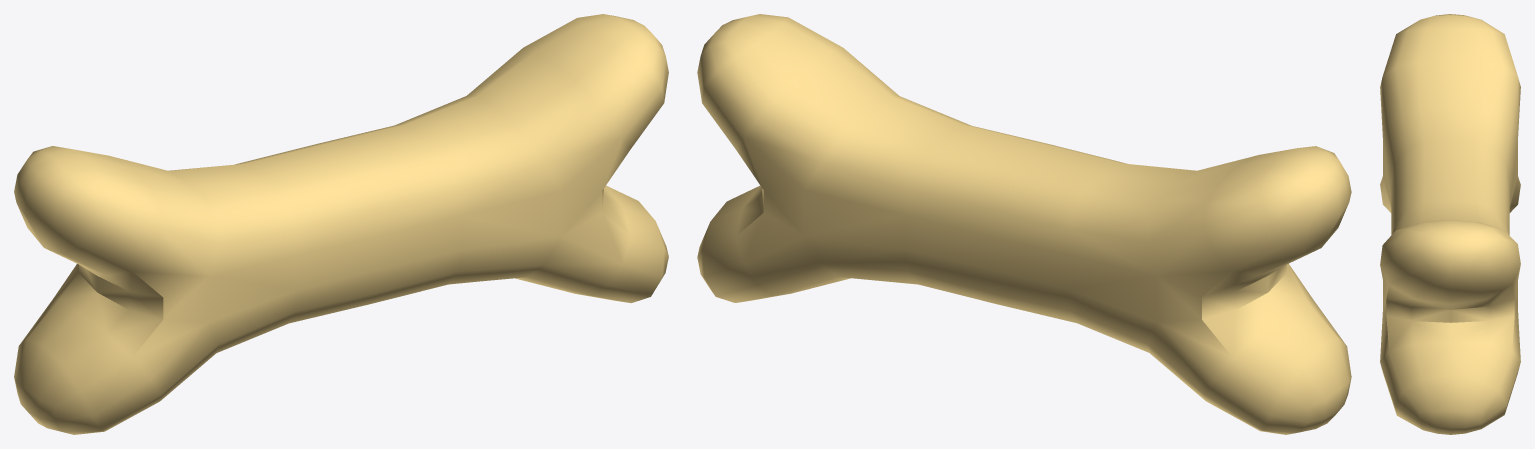
File: milkbone.fbx
3 views of the same model, side by side, from view 1: azimuth 30°, elevation 25°; view 2: azimuth 150°, elevation 25°; view 3: azimuth 270°, elevation 25° (orthographic). The views are drawn at different scales.
Visible parts, largest first — view 1: Retopo_Subdivision_Surface; view 2: Retopo_Subdivision_Surface; view 3: Retopo_Subdivision_Surface.
Part boxes in pixels (bbox=[...]): Retopo_Subdivision_Surface: bbox=[14, 14, 668, 434]; Retopo_Subdivision_Surface: bbox=[697, 14, 1351, 434]; Retopo_Subdivision_Surface: bbox=[1380, 14, 1520, 434].
Bounding box in the file's own units: 161 × 64.5 × 40.25.
